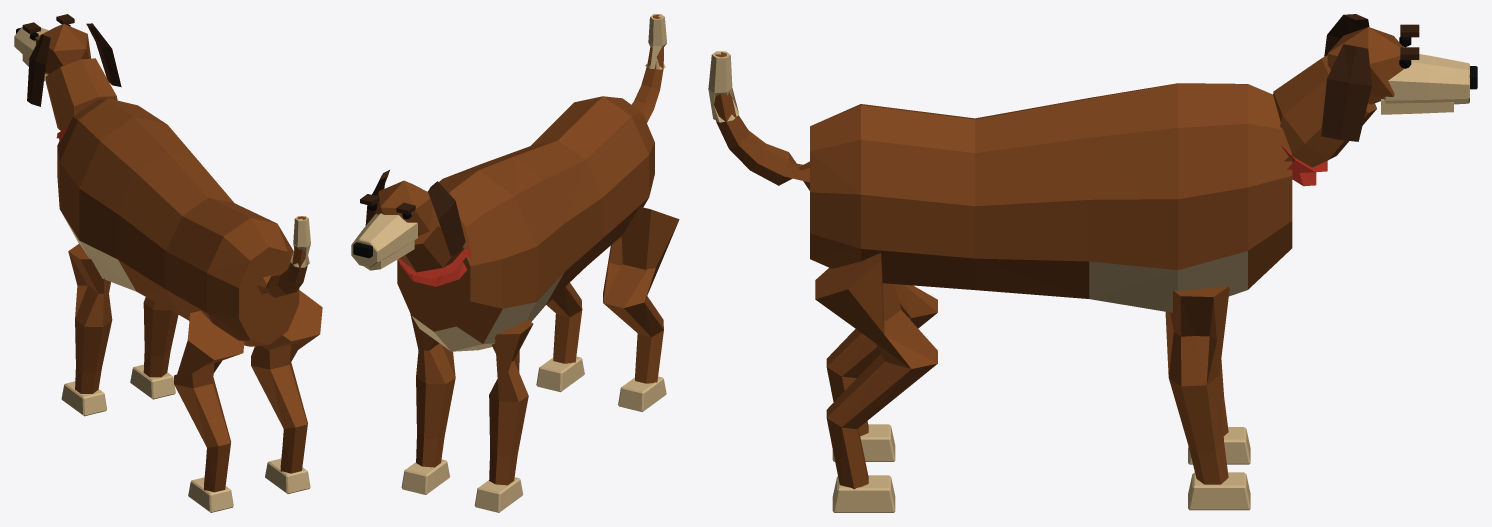
Rendered from ANIMAL_05_Dog.obj.
The picture shows the model from 3 angles, left to right: view 1: azimuth 30°, elevation 25°; view 2: azimuth 150°, elevation 25°; view 3: azimuth 270°, elevation 25°; orthographic projection. The views are drawn at different scales.
Parts seen in each view (by area): view 1: ANIMAL_05_Dog_Body, ANIMAL_05_Dog_Leg_Rear_R, ANIMAL_05_Dog_Leg_Rear_L, ANIMAL_05_Dog_Leg_Front_R, ANIMAL_05_Dog_Neck, ANIMAL_05_Dog_Leg_Front_L, ANIMAL_05_Dog_Head, ANIMAL_05_Dog_Tail, ANIMAL_05_Dog_Ear_R, ANIMAL_05_Dog_Paw_Front_L, ANIMAL_05_Dog_Paw_Front_R, ANIMAL_05_Dog_Paw_Rear_R (+4 smaller); view 2: ANIMAL_05_Dog_Body, ANIMAL_05_Dog_Leg_Rear_R, ANIMAL_05_Dog_Leg_Front_R, ANIMAL_05_Dog_Leg_Front_L, ANIMAL_05_Dog_Muzzle, ANIMAL_05_Dog_Leg_Rear_L, ANIMAL_05_Dog_Neck, ANIMAL_05_Dog_Head, ANIMAL_05_Dog_Ear_R, ANIMAL_05_Dog_Tail, ANIMAL_05_Dog_Paw_Rear_L, ANIMAL_05_Dog_Paw_Rear_R (+5 smaller); view 3: ANIMAL_05_Dog_Body, ANIMAL_05_Dog_Leg_Rear_L, ANIMAL_05_Dog_Leg_Front_L, ANIMAL_05_Dog_Neck, ANIMAL_05_Dog_Ear_L, ANIMAL_05_Dog_Leg_Rear_R, ANIMAL_05_Dog_Tail, ANIMAL_05_Dog_Muzzle, ANIMAL_05_Dog_Head, ANIMAL_05_Dog_Paw_Front_L, ANIMAL_05_Dog_Paw_Rear_L, ANIMAL_05_Dog_Tail_Tip (+2 smaller).
Boxes of the visible parts, box(x1,y1,x2,y2) form: ANIMAL_05_Dog_Body: box(57, 98, 299, 346); ANIMAL_05_Dog_Leg_Rear_R: box(174, 310, 244, 492); ANIMAL_05_Dog_Leg_Rear_L: box(251, 290, 322, 473); ANIMAL_05_Dog_Leg_Front_R: box(68, 243, 112, 393); ANIMAL_05_Dog_Neck: box(45, 58, 117, 137); ANIMAL_05_Dog_Leg_Front_L: box(143, 297, 178, 377); ANIMAL_05_Dog_Head: box(35, 24, 91, 74); ANIMAL_05_Dog_Tail: box(257, 216, 307, 297); ANIMAL_05_Dog_Ear_R: box(27, 34, 50, 106); ANIMAL_05_Dog_Paw_Front_L: box(130, 364, 175, 399); ANIMAL_05_Dog_Paw_Front_R: box(61, 381, 106, 416); ANIMAL_05_Dog_Paw_Rear_R: box(188, 477, 233, 512); ANIMAL_05_Dog_Body: box(397, 96, 654, 351); ANIMAL_05_Dog_Leg_Rear_R: box(603, 206, 679, 383); ANIMAL_05_Dog_Leg_Front_R: box(489, 319, 533, 485); ANIMAL_05_Dog_Leg_Front_L: box(410, 314, 455, 467); ANIMAL_05_Dog_Muzzle: box(351, 213, 417, 267); ANIMAL_05_Dog_Leg_Rear_L: box(546, 282, 582, 363); ANIMAL_05_Dog_Neck: box(399, 206, 471, 272); ANIMAL_05_Dog_Head: box(375, 180, 432, 235); ANIMAL_05_Dog_Ear_R: box(428, 181, 465, 256); ANIMAL_05_Dog_Tail: box(631, 14, 664, 122); ANIMAL_05_Dog_Paw_Rear_L: box(536, 356, 584, 392); ANIMAL_05_Dog_Paw_Rear_R: box(618, 376, 666, 411); ANIMAL_05_Dog_Body: box(810, 83, 1292, 312); ANIMAL_05_Dog_Leg_Rear_L: box(815, 253, 937, 489); ANIMAL_05_Dog_Leg_Front_L: box(1165, 286, 1229, 484); ANIMAL_05_Dog_Neck: box(1273, 55, 1376, 167); ANIMAL_05_Dog_Ear_L: box(1321, 44, 1371, 141); ANIMAL_05_Dog_Leg_Rear_R: box(826, 284, 937, 435); ANIMAL_05_Dog_Tail: box(714, 52, 809, 190); ANIMAL_05_Dog_Muzzle: box(1384, 54, 1469, 104); ANIMAL_05_Dog_Head: box(1327, 27, 1403, 104); ANIMAL_05_Dog_Paw_Front_L: box(1188, 472, 1250, 510); ANIMAL_05_Dog_Paw_Rear_L: box(832, 475, 895, 512); ANIMAL_05_Dog_Tail_Tip: box(708, 51, 739, 122).
Bounding box in the file's own units: 0.334 × 0.7884 × 1.21.
